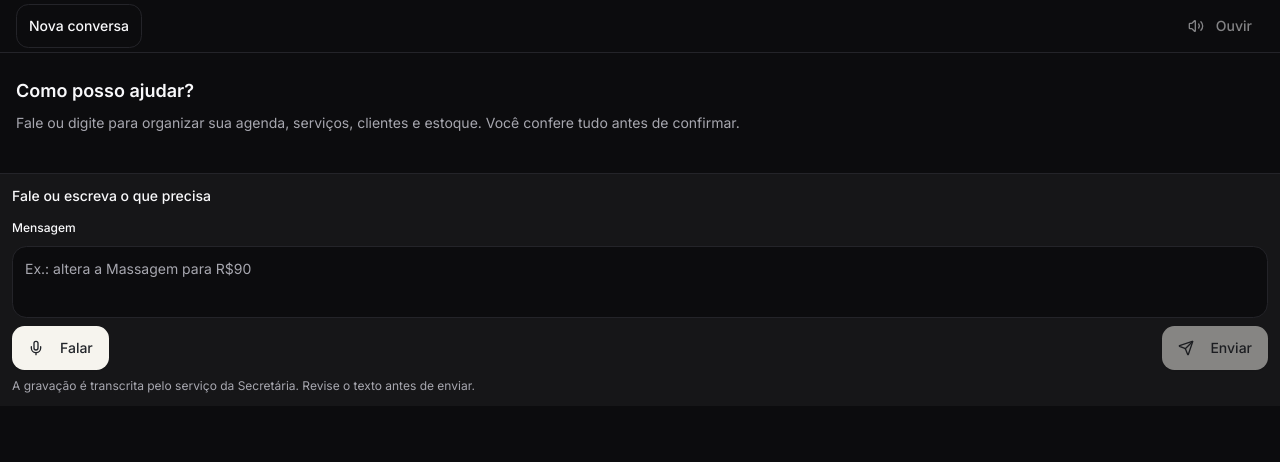
recorder path of GPT transcription (SALON_SECRETARY_TRANSCRIBE_ENABLED) › a refused transcription is visible and preserves the typed text
The image size is (1280, 462).
Type "Preserve" into the text box labelled "Mensagem" at (640, 282), box [12,246,1268,318]
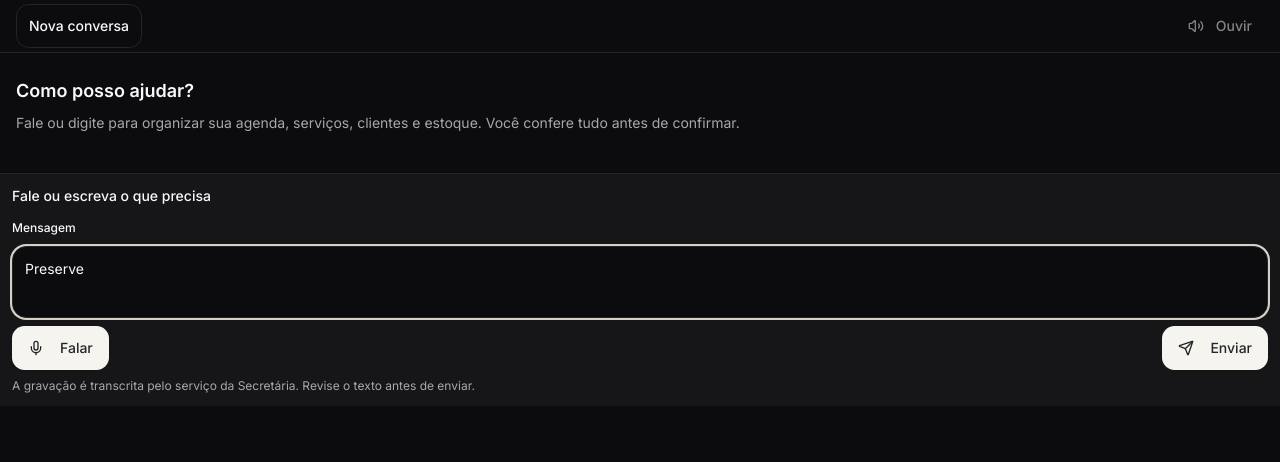
Click the button with aria-label "Falar com a Secretária" at (60, 348), box [12,326,109,370]
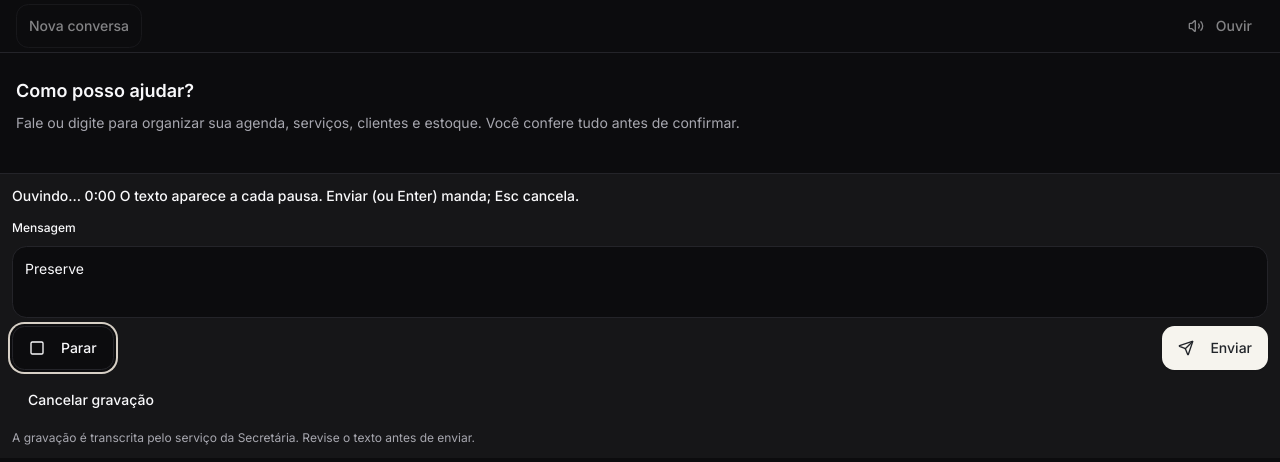
Result: the message shows "Ouvindo" at [12,187,579,204]
Click the button with aria-label "Parar gravação" at (63, 348), box [12,326,114,370]
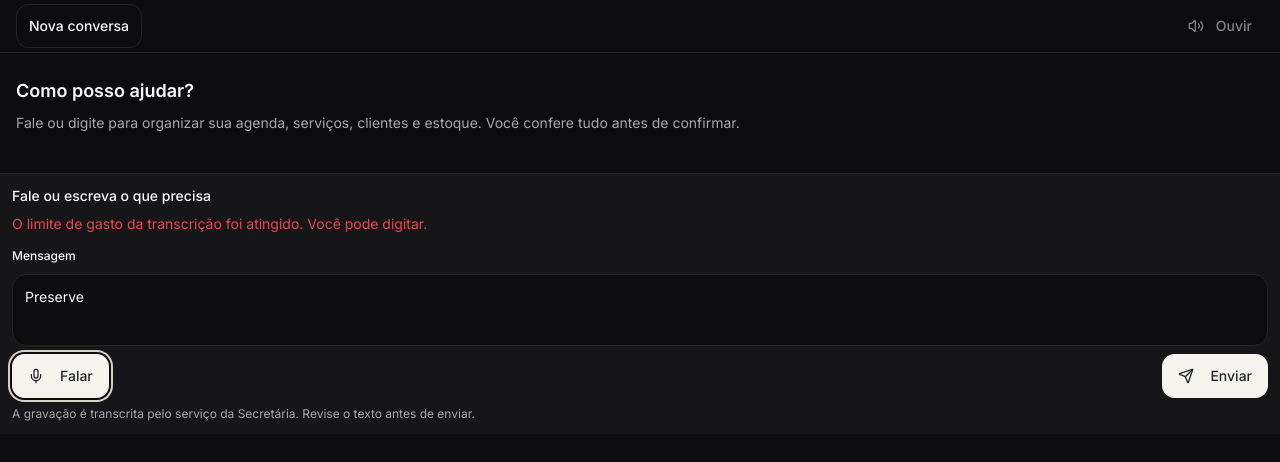
Result: the message "O limite de gasto da transcrição foi atingido. Você pode digitar." is shown at [12,215,427,232]
